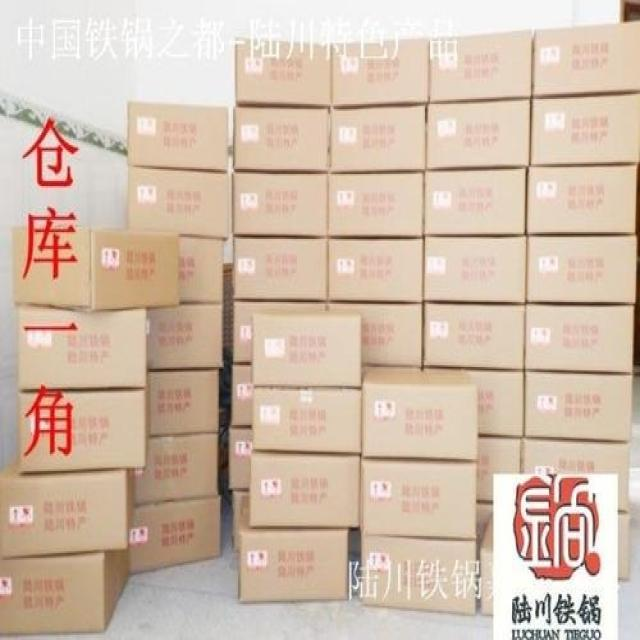box: (0, 448, 138, 561), (14, 225, 180, 312), (13, 302, 150, 388), (1, 549, 132, 638), (19, 389, 150, 473), (362, 368, 479, 461), (239, 510, 350, 604), (361, 456, 477, 538), (360, 535, 477, 615), (522, 304, 635, 377), (251, 453, 361, 527), (532, 90, 639, 166), (523, 437, 630, 513), (528, 232, 639, 305), (533, 20, 639, 96), (523, 370, 633, 443), (527, 167, 639, 237), (252, 317, 360, 389), (125, 166, 228, 241), (426, 95, 530, 169), (430, 29, 534, 102), (252, 389, 362, 454), (423, 301, 526, 370), (130, 497, 221, 574), (424, 236, 528, 302), (425, 167, 527, 234), (129, 101, 227, 169), (328, 168, 426, 236), (234, 37, 331, 105), (234, 106, 331, 174), (331, 103, 426, 172), (332, 39, 431, 105), (231, 171, 329, 237), (327, 237, 423, 303), (327, 303, 423, 368), (232, 237, 330, 300), (233, 300, 328, 364), (136, 432, 217, 506), (147, 300, 223, 371), (150, 367, 219, 438), (465, 372, 525, 434), (475, 436, 523, 503), (180, 232, 224, 304), (476, 502, 494, 617), (230, 425, 254, 490), (231, 487, 251, 552), (232, 363, 252, 426), (620, 513, 630, 581)
